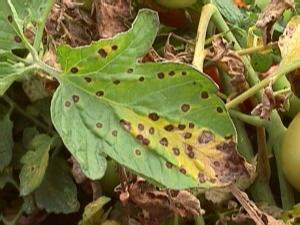Tomato Septoria leaf spot: (31, 14, 258, 194)
